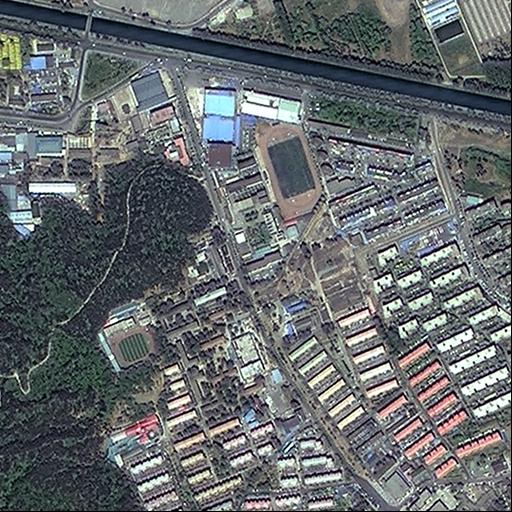school: (212, 84, 325, 286), (94, 300, 164, 376)
